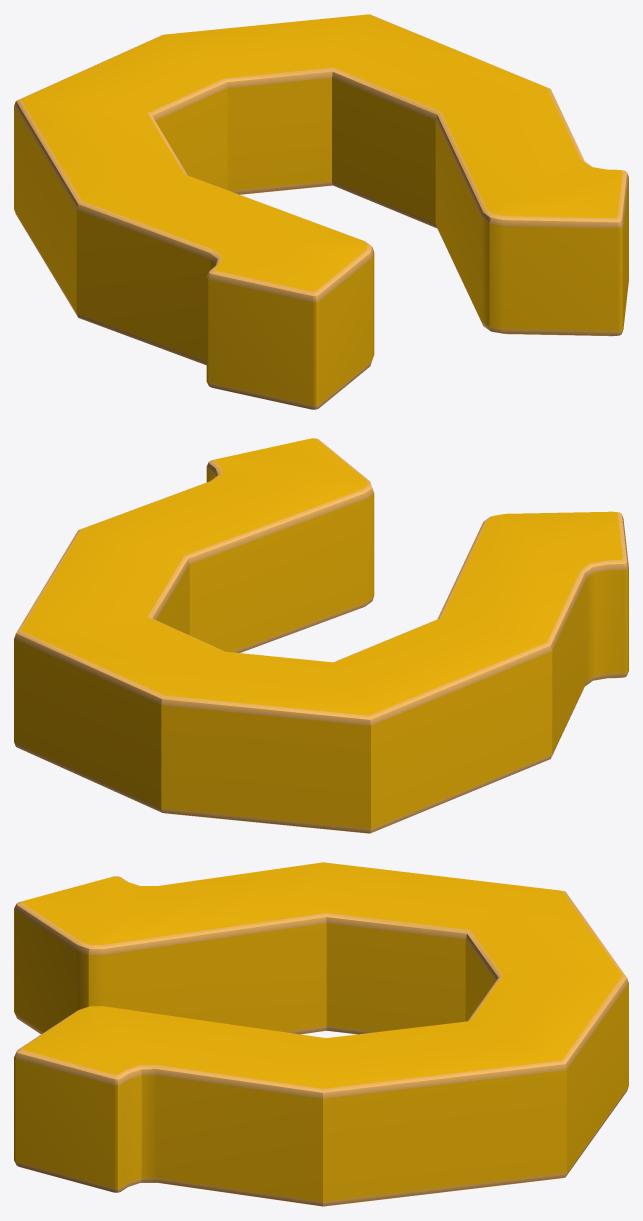
Rendered from HorseShoe.fbx.
3 renders of one model, top to bottom at view 1: azimuth 30°, elevation 25°; view 2: azimuth 150°, elevation 25°; view 3: azimuth 270°, elevation 25°, orthographic.
Parts seen in each view (by area): view 1: HorseShoe; view 2: HorseShoe; view 3: HorseShoe.
Boxes of the visible parts, x1,y1,x2,y2 form: HorseShoe: (14,14,628,409); HorseShoe: (14,438,628,833); HorseShoe: (14,862,628,1206).
Bounding box in the file's own units: 51.59 × 12.23 × 57.83.
Materials: 1 (1 with a texture image).
